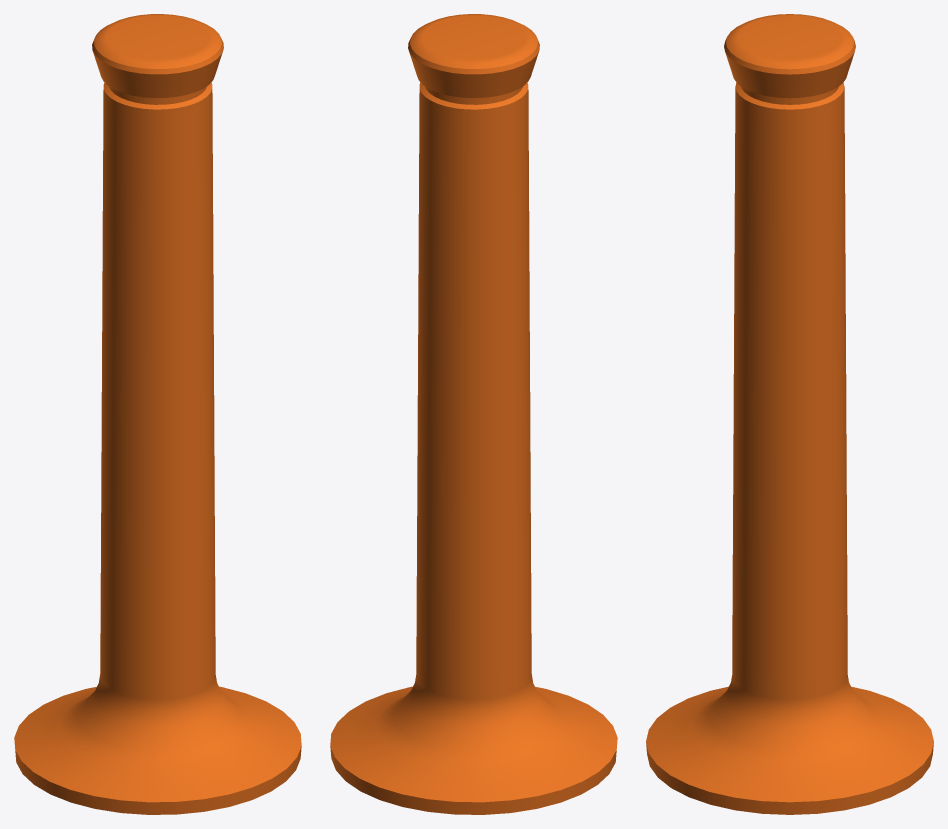
File: rua_roadcone_02.glb
The picture shows the model from 3 angles, left to right: view 1: azimuth 30°, elevation 25°; view 2: azimuth 150°, elevation 25°; view 3: azimuth 270°, elevation 25°; orthographic projection.
Parts seen in each view (by area): view 1: SM_RoadCone_02; view 2: SM_RoadCone_02; view 3: SM_RoadCone_02.
Part boxes in pixels (x1=…): SM_RoadCone_02: x1=14, y1=14, x2=301, y2=814; SM_RoadCone_02: x1=330, y1=14, x2=617, y2=814; SM_RoadCone_02: x1=646, y1=14, x2=933, y2=814.
Size of what is drawn, in the model's own units: 0.2684 by 0.7373 by 0.2684.
